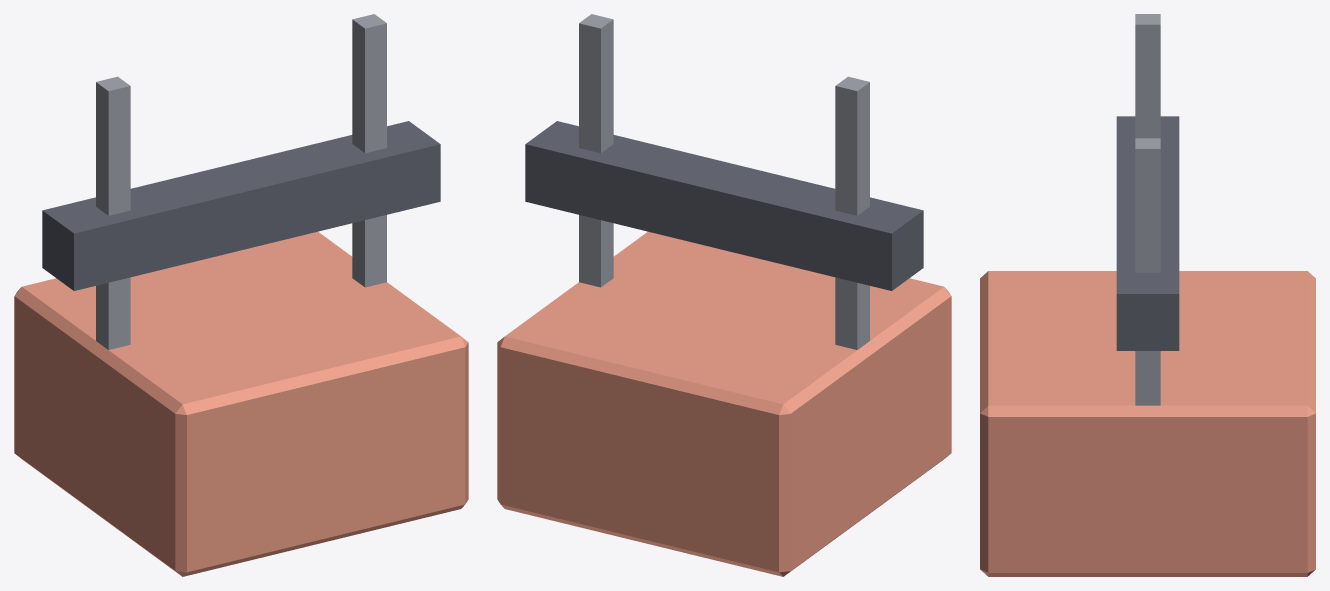
The model's file is Trap_Prensa.fbx.
3 views of the same model, side by side, from view 1: azimuth 30°, elevation 25°; view 2: azimuth 150°, elevation 25°; view 3: azimuth 270°, elevation 25° (orthographic).
Visible parts, largest first — view 1: Trap_Prensa; view 2: Trap_Prensa; view 3: Trap_Prensa.
Boxes of the visible parts, left/top/right/bottom form: Trap_Prensa: left=14, top=14, right=468, bottom=576; Trap_Prensa: left=497, top=14, right=951, bottom=576; Trap_Prensa: left=980, top=14, right=1315, bottom=576.
Bounding box in the file's own units: 2 × 2.25 × 1.6.
